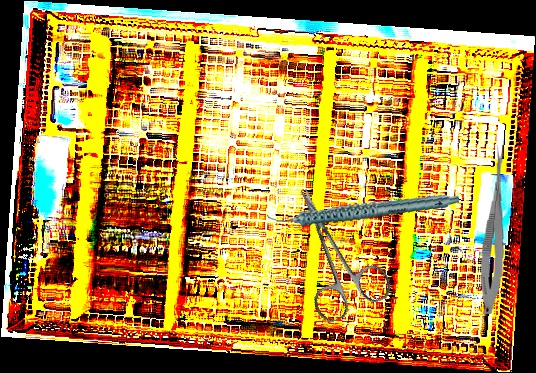Handpiece: (266, 172, 460, 246)
Iris Scissors: (270, 173, 396, 326)
Micro Scissor: (477, 144, 510, 315)
